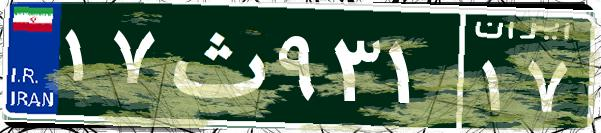1: (385, 28, 445, 110), (57, 26, 110, 107), (475, 38, 525, 113)
3: (330, 28, 385, 110)
7: (110, 28, 158, 105), (525, 38, 570, 115)
9: (273, 28, 330, 110)
ث: (158, 15, 273, 115)
